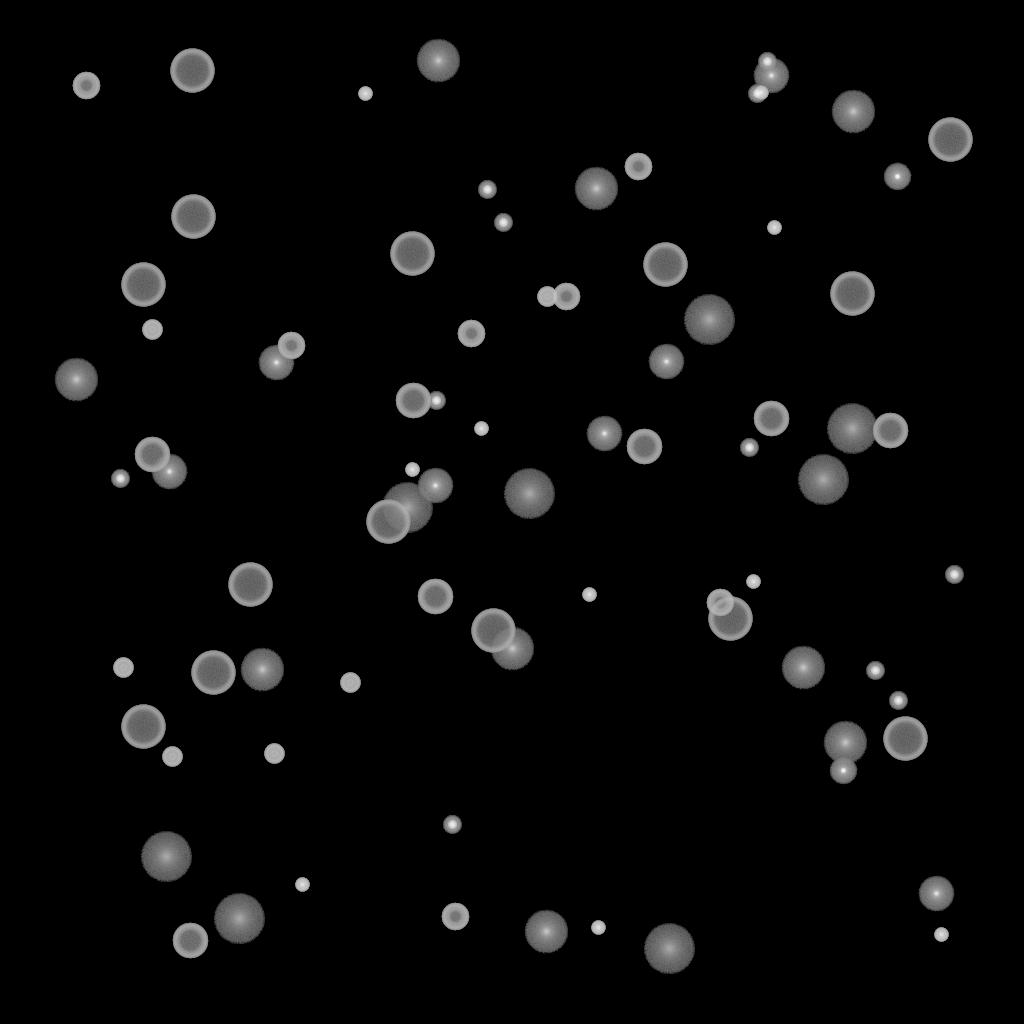depth:-10: (829, 757, 857, 785), (883, 163, 911, 191)
depth:-20: (443, 816, 461, 834), (945, 566, 963, 584), (758, 53, 776, 71), (427, 392, 445, 410), (866, 662, 884, 680), (889, 692, 907, 710), (748, 85, 766, 103), (478, 181, 496, 199), (111, 470, 129, 488), (740, 439, 758, 457), (494, 214, 512, 232)
depth:-30: (591, 921, 605, 935), (582, 588, 596, 602), (474, 422, 488, 436), (934, 928, 948, 942), (767, 221, 781, 235), (754, 86, 768, 100), (295, 878, 309, 892), (358, 87, 372, 101), (405, 463, 419, 477), (746, 575, 760, 589)
depth:-40: (537, 287, 557, 307), (142, 320, 162, 340), (264, 744, 284, 764), (340, 673, 360, 693), (113, 658, 133, 678), (162, 747, 182, 767)
depth:-50: (624, 153, 652, 181), (441, 903, 469, 931), (552, 283, 580, 311), (706, 589, 734, 617), (72, 72, 100, 100), (457, 320, 485, 348), (277, 332, 305, 360)
depth:-60: (172, 923, 208, 959), (626, 429, 662, 465), (134, 437, 170, 473), (417, 579, 453, 615), (395, 383, 431, 419), (872, 413, 908, 449), (753, 401, 789, 437)
depth:-70: (928, 118, 972, 162), (121, 705, 165, 749), (390, 232, 434, 276), (228, 563, 272, 607), (708, 597, 752, 641), (191, 651, 235, 695), (171, 195, 215, 239), (643, 243, 687, 287), (830, 272, 874, 316), (471, 609, 515, 653), (170, 49, 214, 93), (883, 717, 927, 761), (366, 500, 410, 544), (121, 263, 165, 307)
depth:0: (417, 468, 453, 504), (648, 344, 684, 380), (918, 876, 954, 912), (586, 416, 622, 452), (258, 345, 294, 381), (151, 454, 187, 490), (753, 58, 789, 94)
depth:10: (524, 910, 568, 954), (781, 646, 825, 690), (574, 167, 618, 211), (416, 39, 460, 83), (823, 721, 867, 765), (831, 90, 875, 134), (240, 648, 284, 692), (54, 358, 98, 402), (490, 627, 534, 671)
depth:20: (381, 483, 433, 533), (213, 894, 265, 944), (797, 455, 849, 505), (643, 924, 695, 974), (826, 404, 878, 454), (503, 469, 555, 519), (140, 832, 192, 882), (683, 295, 735, 345)
